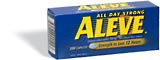grozi_29: (46, 0, 160, 60)
